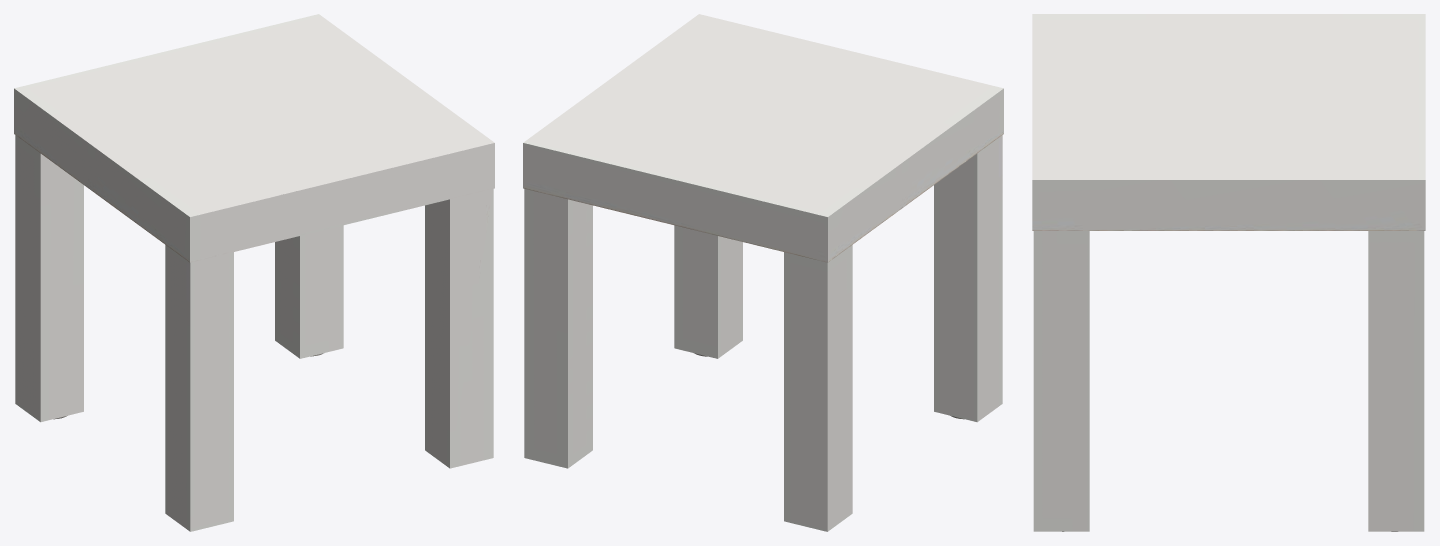
The model's file is lack_nesting_tables_set_of_2_white.glb.
3 renders of one model, left to right at view 1: azimuth 30°, elevation 25°; view 2: azimuth 150°, elevation 25°; view 3: azimuth 270°, elevation 25°, orthographic. The views are drawn at different scales.
Visible parts, largest first — view 1: 59442727_nest_of_tables_set_of_2:1, 59442727_nest_of_tables_set_of_2:3; view 2: 59442727_nest_of_tables_set_of_2:1, 59442727_nest_of_tables_set_of_2:3; view 3: 59442727_nest_of_tables_set_of_2:1, 59442727_nest_of_tables_set_of_2:3.
Part boxes in pixels (box(x1,y1,x2,y2)): 59442727_nest_of_tables_set_of_2:1: box(14, 14, 494, 531); 59442727_nest_of_tables_set_of_2:3: box(14, 88, 494, 262); 59442727_nest_of_tables_set_of_2:1: box(523, 14, 1003, 531); 59442727_nest_of_tables_set_of_2:3: box(523, 88, 1003, 262); 59442727_nest_of_tables_set_of_2:1: box(1032, 14, 1425, 531); 59442727_nest_of_tables_set_of_2:3: box(1032, 180, 1425, 230).
Size of the model in its own units: 0.35 by 0.35 by 0.35.
1 material, 1 textured.
